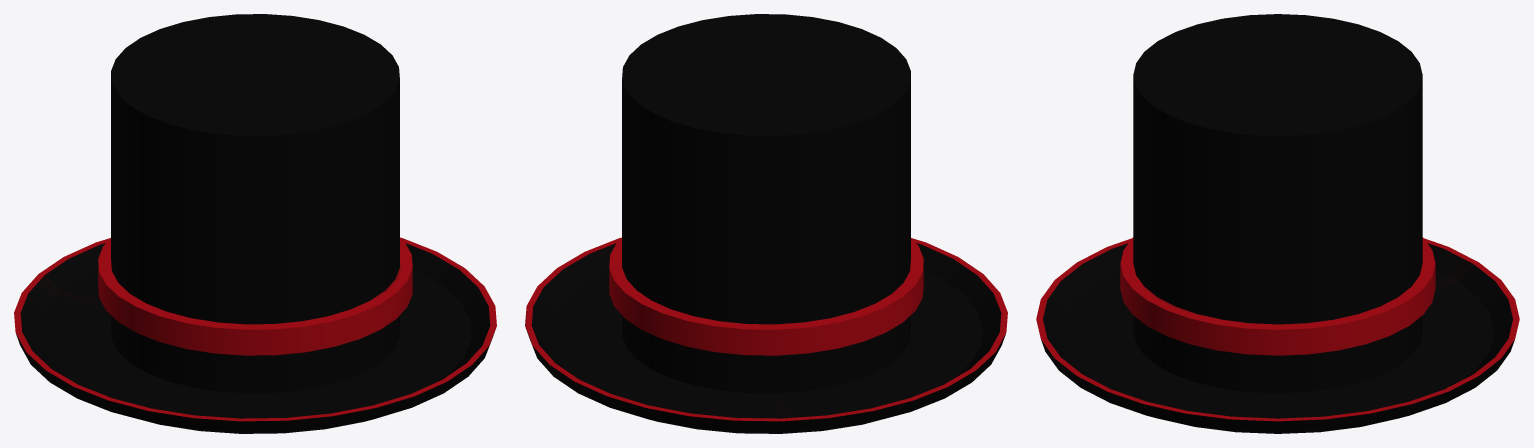
File: TopHat.fbx
3 renders of one model, left to right at view 1: azimuth 30°, elevation 25°; view 2: azimuth 150°, elevation 25°; view 3: azimuth 270°, elevation 25°, orthographic.
Parts seen in each view (by area): view 1: Cylinder, Cylinder.001; view 2: Cylinder, Cylinder.001; view 3: Cylinder, Cylinder.001.
Boxes of the visible parts, bbox=[...] form: Cylinder: bbox=[14, 14, 496, 433]; Cylinder.001: bbox=[98, 238, 412, 355]; Cylinder: bbox=[525, 14, 1007, 433]; Cylinder.001: bbox=[609, 238, 923, 355]; Cylinder: bbox=[1036, 14, 1519, 433]; Cylinder.001: bbox=[1120, 237, 1435, 355].
Size of the model in its own units: 204 by 124 by 204.
1 material, 1 textured.
